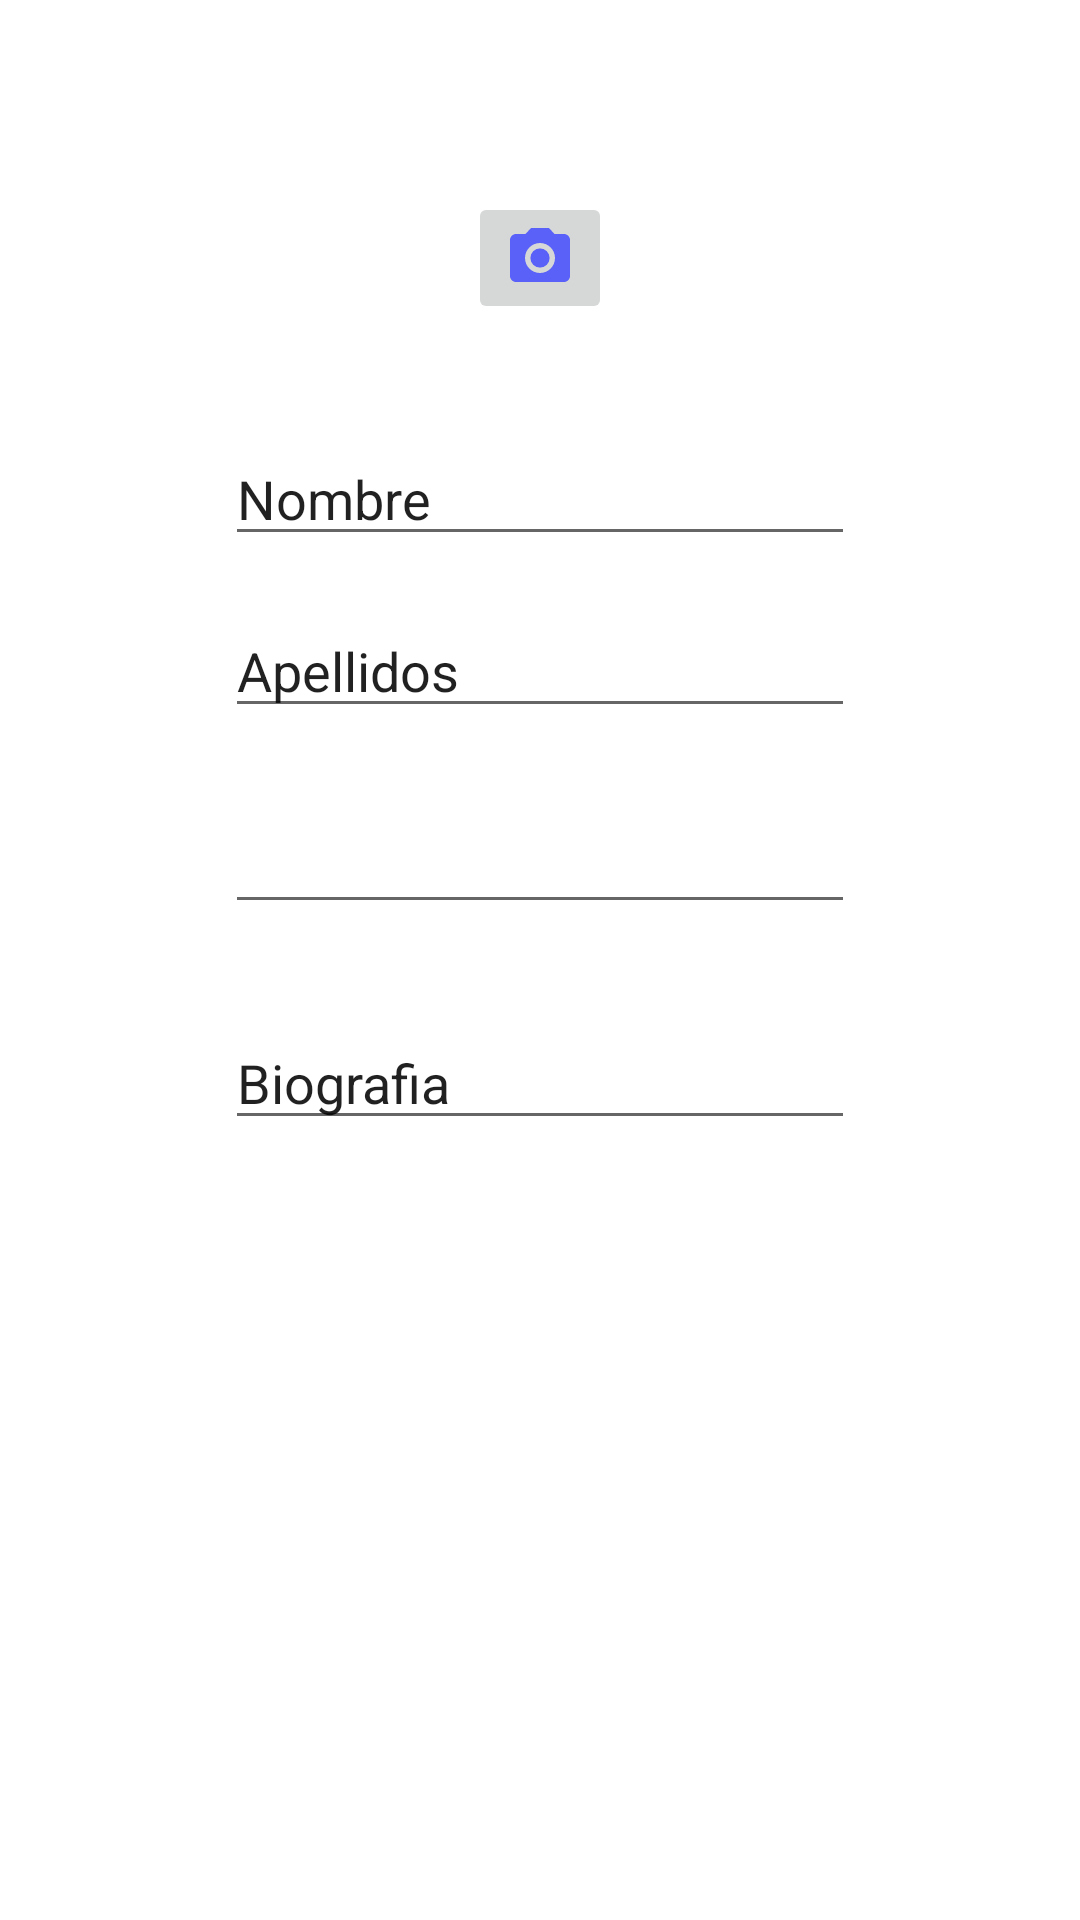

Where to tap for icons on this 1080px x 1920px app screen, as [x,y]:
photo camera: [540,258]
